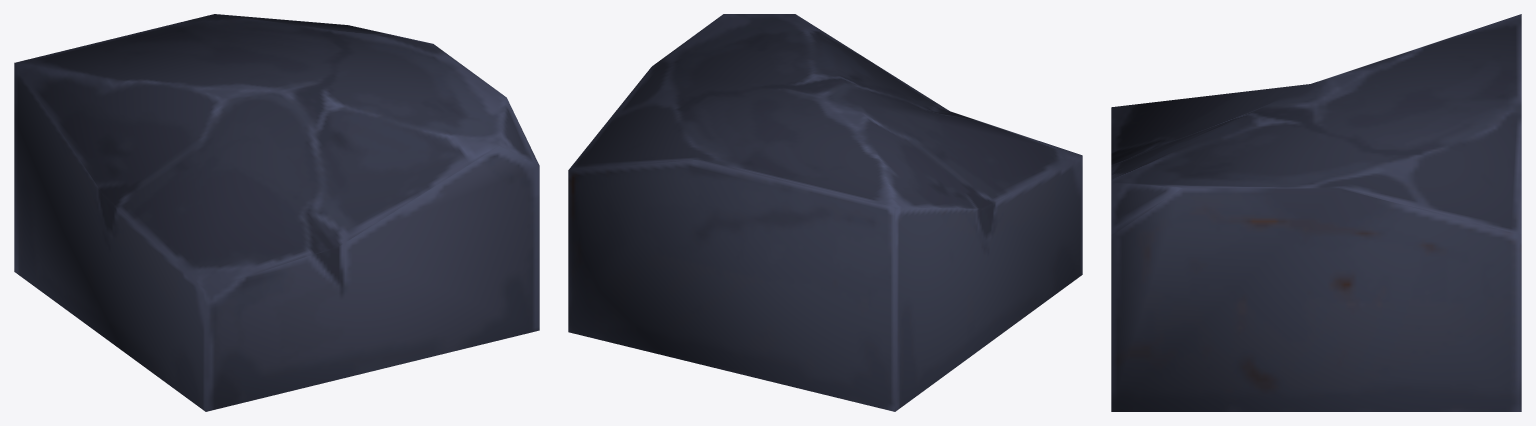
File: sn_jiguan_zhuzi_002.FBX
3 views of the same model, side by side, from view 1: azimuth 30°, elevation 25°; view 2: azimuth 150°, elevation 25°; view 3: azimuth 270°, elevation 25° (orthographic). The views are drawn at different scales.
Parts seen in each view (by area): view 1: sn_jiguan_zhuzi_002; view 2: sn_jiguan_zhuzi_002; view 3: sn_jiguan_zhuzi_002.
Boxes of the visible parts, x1,y1,x2,y2 form: sn_jiguan_zhuzi_002: [14, 14, 539, 411]; sn_jiguan_zhuzi_002: [568, 14, 1082, 411]; sn_jiguan_zhuzi_002: [1111, 14, 1521, 411].
Bounding box in the file's own units: 179 × 107 × 178.
